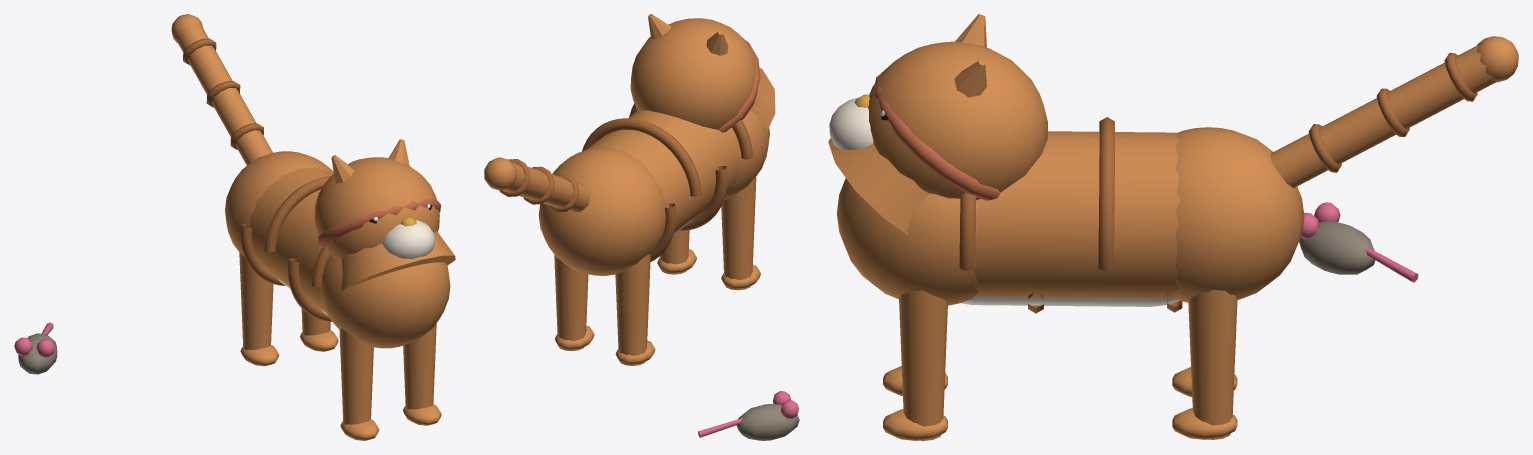
The model's file is h21-kucing-oranye.glb.
3 renders of one model, left to right at view 1: azimuth 30°, elevation 25°; view 2: azimuth 150°, elevation 25°; view 3: azimuth 270°, elevation 25°, orthographic. The views are drawn at different scales.
Parts seen in each view (by area): view 1: Kucing Oranye, head, neck; view 2: Kucing Oranye, head, neck; view 3: Kucing Oranye, head, neck.
Boxes of the visible parts, x1=… form: Kucing Oranye: x1=14, y1=14, x2=450, y2=440; head: x1=314, y1=139, x2=439, y2=258; neck: x1=318, y1=198, x2=455, y2=291; Kucing Oranye: x1=484, y1=103, x2=799, y2=440; head: x1=630, y1=14, x2=757, y2=129; neck: x1=636, y1=40, x2=775, y2=133; Kucing Oranye: x1=836, y1=36, x2=1518, y2=440; head: x1=829, y1=14, x2=1047, y2=199; neck: x1=828, y1=74, x2=1000, y2=235.
Bounding box in the file's own units: 0.541 × 0.4691 × 0.7767.
